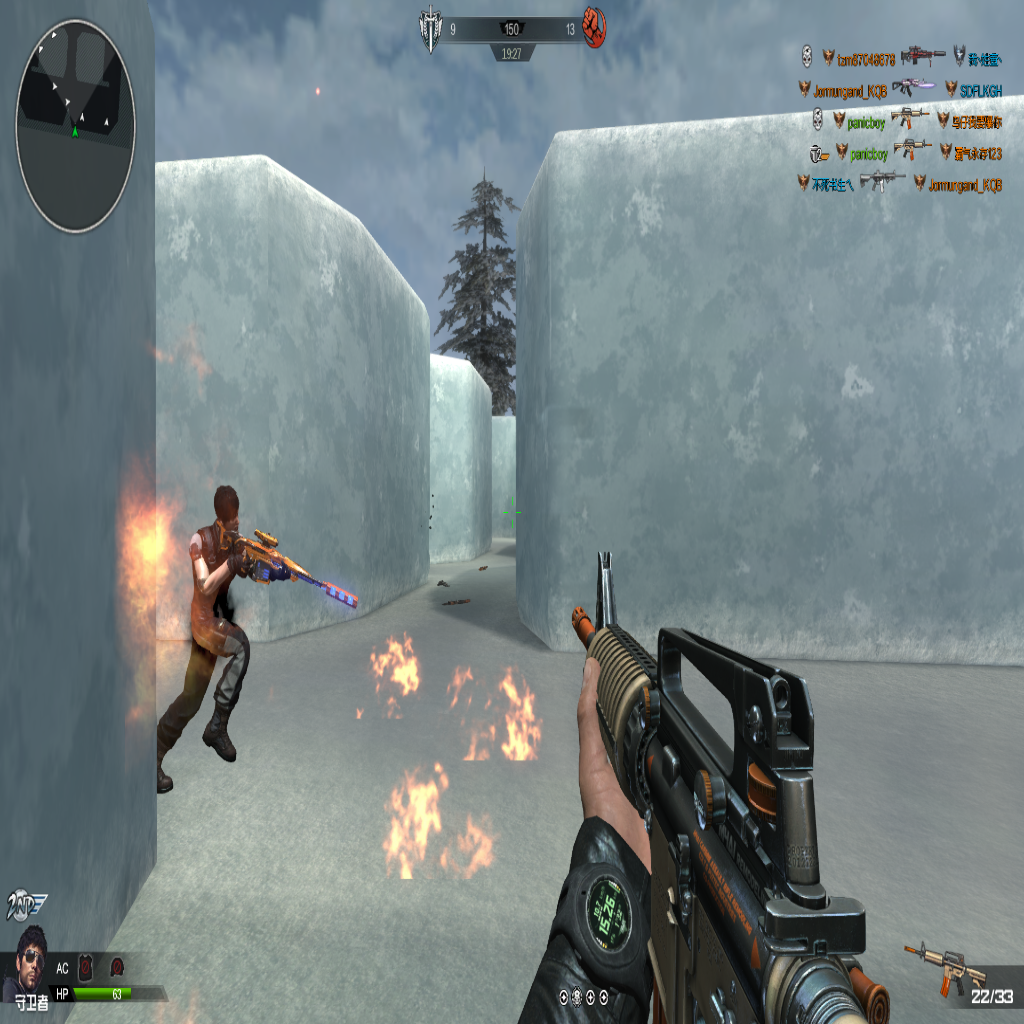ct: (155, 489, 318, 782)
